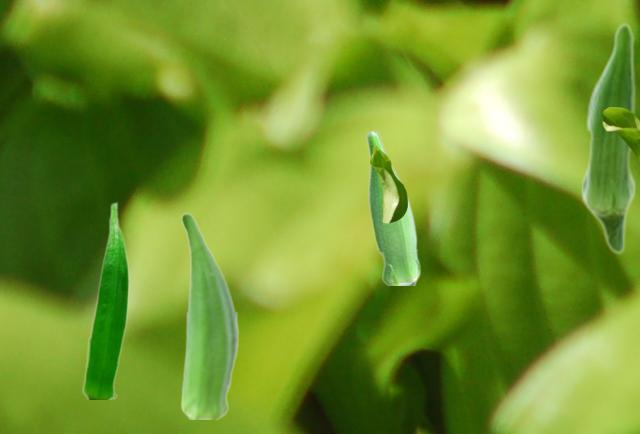okra: (580, 22, 636, 254), (180, 212, 238, 418), (82, 201, 129, 398), (365, 130, 419, 284)
